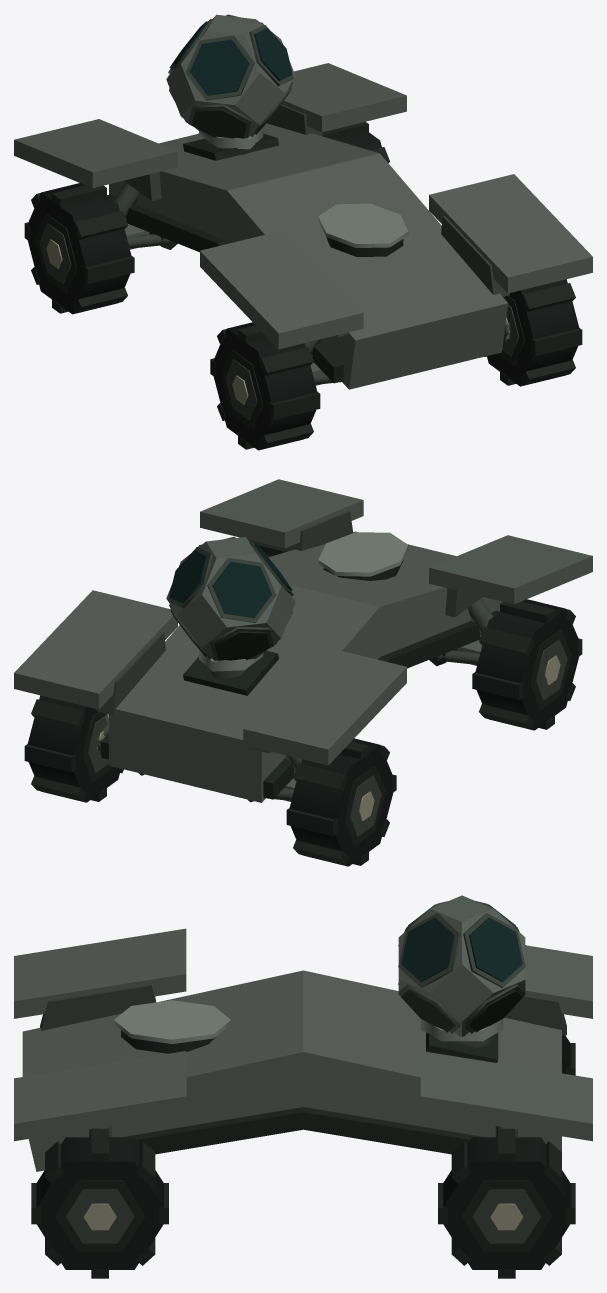
File: xb12_d0_lod2.meshopt.glb
The picture shows the model from 3 angles, top to bottom: view 1: azimuth 30°, elevation 25°; view 2: azimuth 150°, elevation 25°; view 3: azimuth 270°, elevation 25°; orthographic projection. The views are drawn at different scales.
Visible parts, largest first — view 1: XB12_STATIC; view 2: XB12_STATIC; view 3: XB12_STATIC.
Boxes of the visible parts, x1=… form: XB12_STATIC: x1=14, y1=14, x2=592, y2=450; XB12_STATIC: x1=14, y1=479, x2=592, y2=866; XB12_STATIC: x1=14, y1=895, x2=592, y2=1278.
Size of the model in its own units: 2.88 by 2.3 by 4.2.
